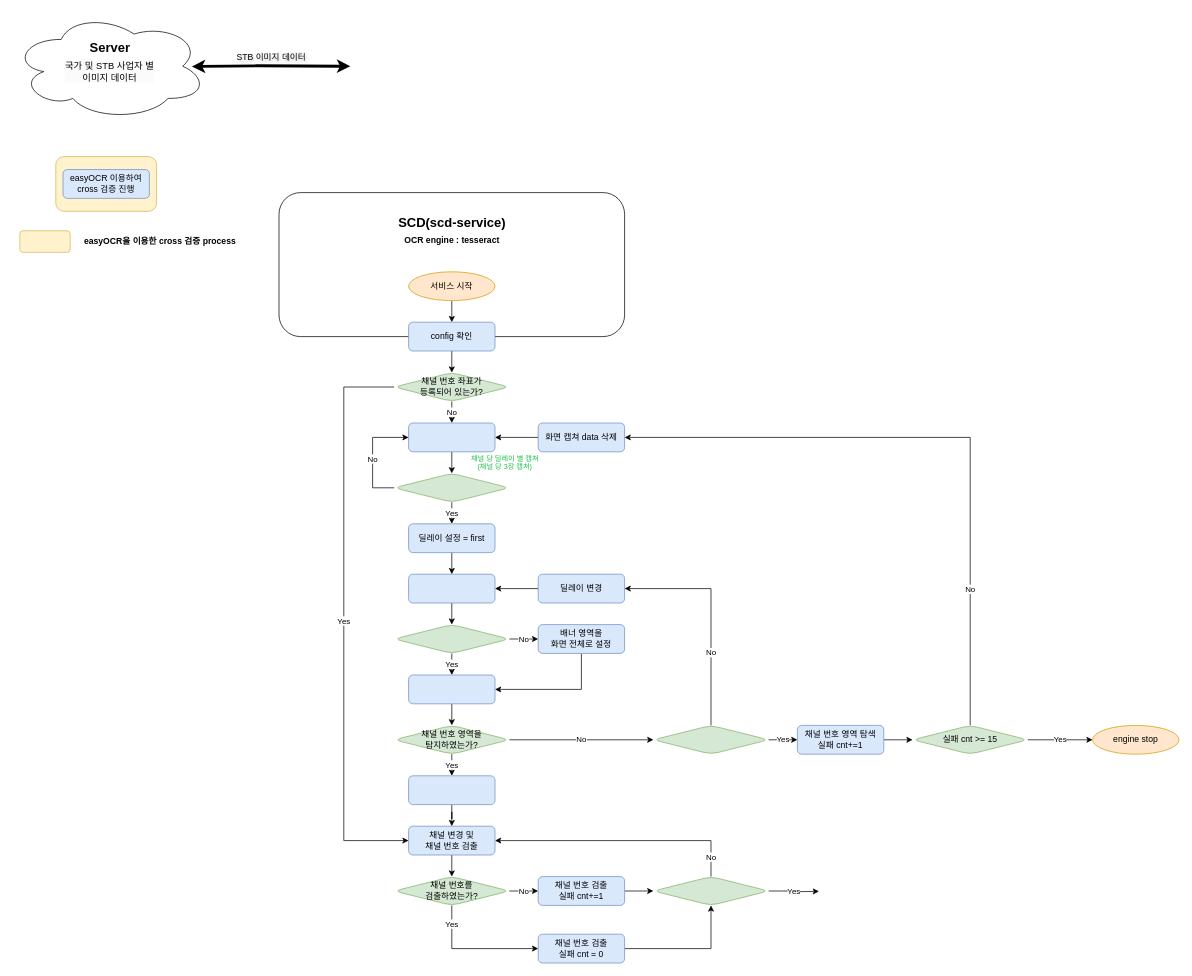
This 1192x976 diagram has some shape labels left out. Each missing label, with the box of its shape:
config 내 채널 번호 좌표 추가: (408, 775, 495, 805)
마지막 딜레이인가?: (653, 725, 769, 754)
배너 영역 탐색: (408, 573, 495, 603)
배너 영역을 탐지하였는가?: (393, 624, 509, 653)
실패 cnt >= 5: (653, 876, 769, 905)
채널 변경 및 변경된 화면 캡쳐: (408, 422, 495, 452)
탐지/설정된 배너 내 채널 번호 영역 탐색: (408, 674, 495, 704)
화면 캡쳐 수 = 5: (393, 473, 509, 502)
